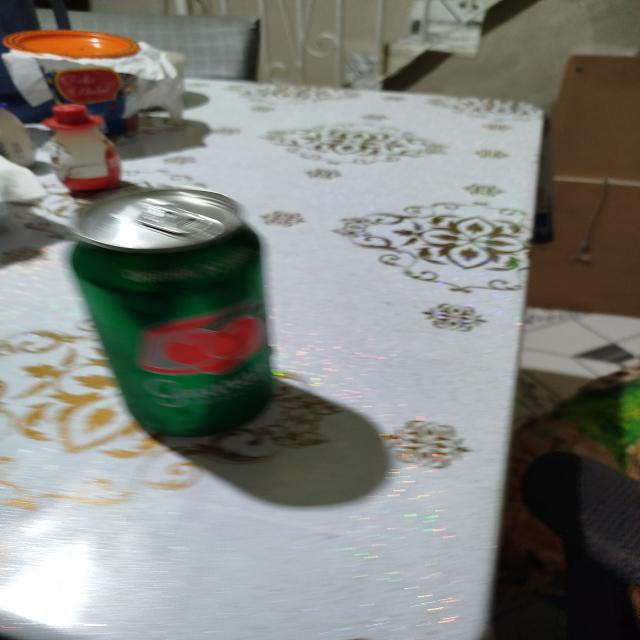Guarana: (69, 187, 276, 448)
